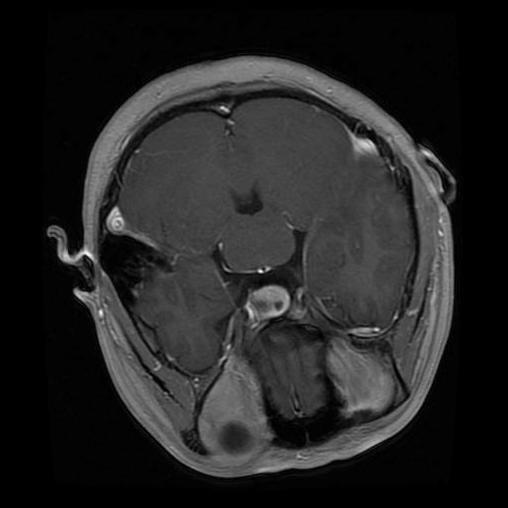Tumour-Pituitary: (243, 279, 296, 332)
